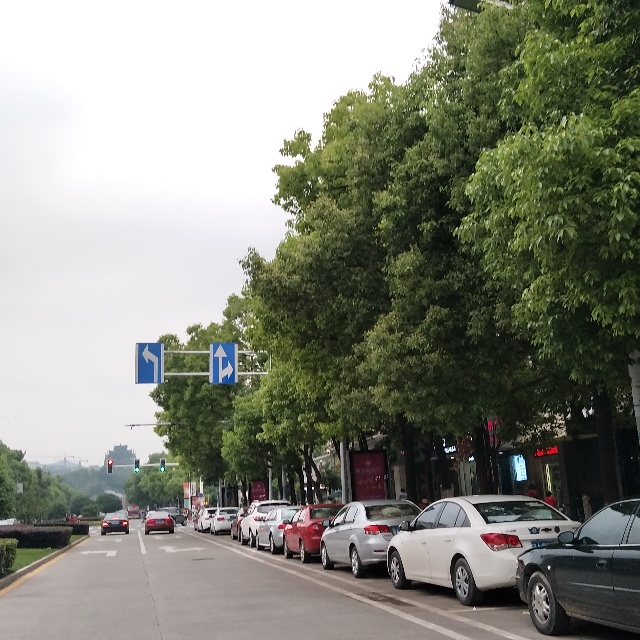left: (133, 338, 165, 388)
